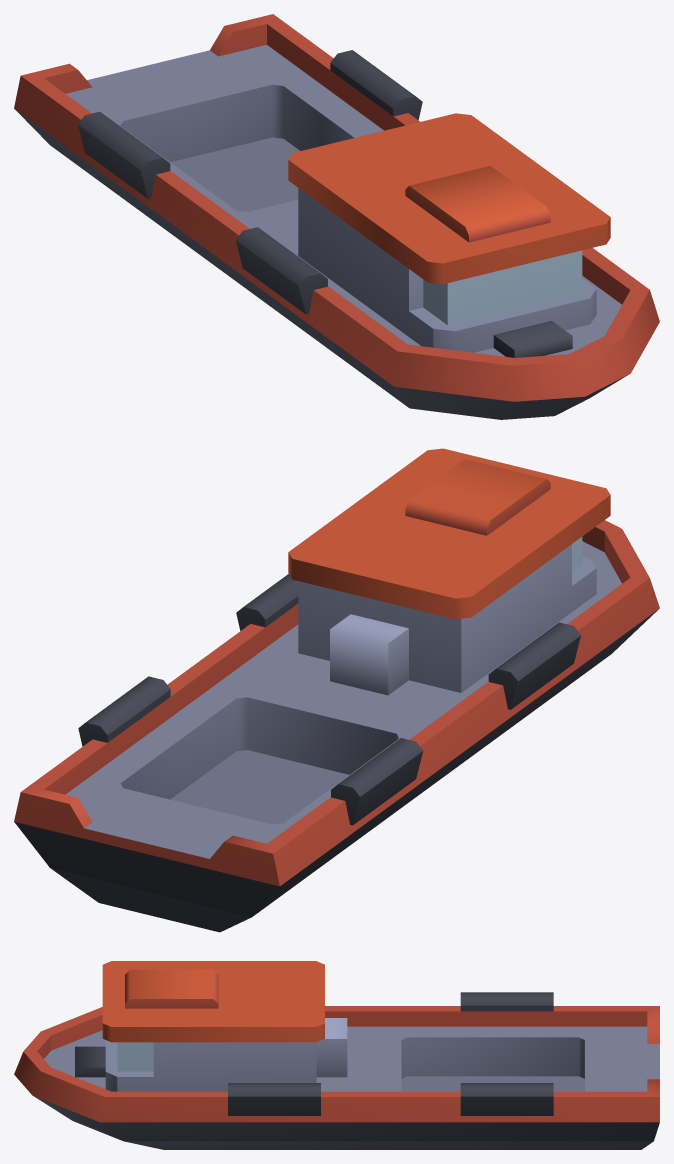
File: ship-cargo-c.glb
3 views of the same model, one above another, from view 1: azimuth 30°, elevation 25°; view 2: azimuth 150°, elevation 25°; view 3: azimuth 270°, elevation 25° (orthographic). The views are drawn at different scales.
Visible parts, largest first — view 1: ship-cargo-c; view 2: ship-cargo-c; view 3: ship-cargo-c.
Part boxes in pixels (x1,y1,x2,y2): ship-cargo-c: (14, 14, 659, 419); ship-cargo-c: (14, 448, 659, 932); ship-cargo-c: (14, 961, 659, 1149).
Size of the model in its own units: 3.92 by 2.59 by 10.55.
